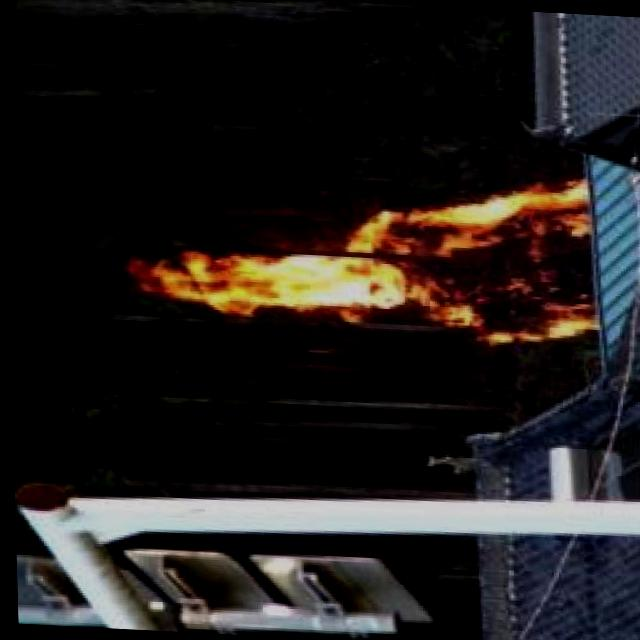Fire: (110, 137, 604, 349)
